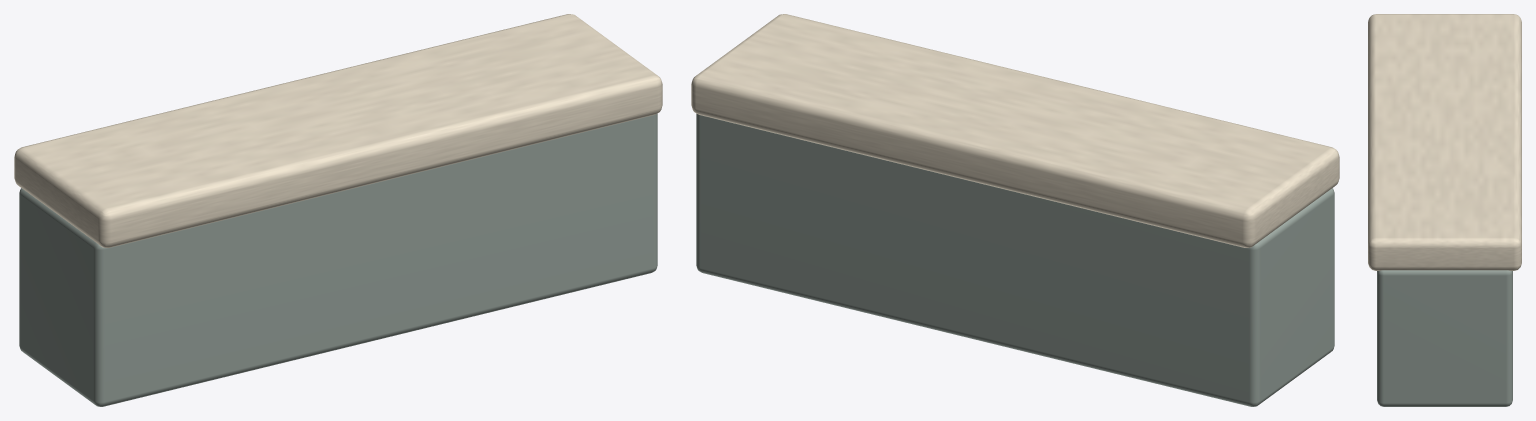
The model's file is cutaway.glb.
3 renders of one model, left to right at view 1: azimuth 30°, elevation 25°; view 2: azimuth 150°, elevation 25°; view 3: azimuth 270°, elevation 25°, orthographic. The views are drawn at different scales.
Visible parts, largest first — view 1: Cutaway stone, Cutaway cap; view 2: Cutaway stone, Cutaway cap; view 3: Cutaway cap, Cutaway stone.
Part boxes in pixels (bbox=[...]): Cutaway stone: bbox=[19, 113, 657, 406]; Cutaway cap: bbox=[14, 14, 662, 247]; Cutaway stone: bbox=[696, 113, 1334, 406]; Cutaway cap: bbox=[691, 14, 1339, 247]; Cutaway cap: bbox=[1368, 14, 1521, 270]; Cutaway stone: bbox=[1377, 270, 1512, 406].
Size of the model in its own units: 1.2 by 0.41 by 0.34.
2 materials, 1 textured.
